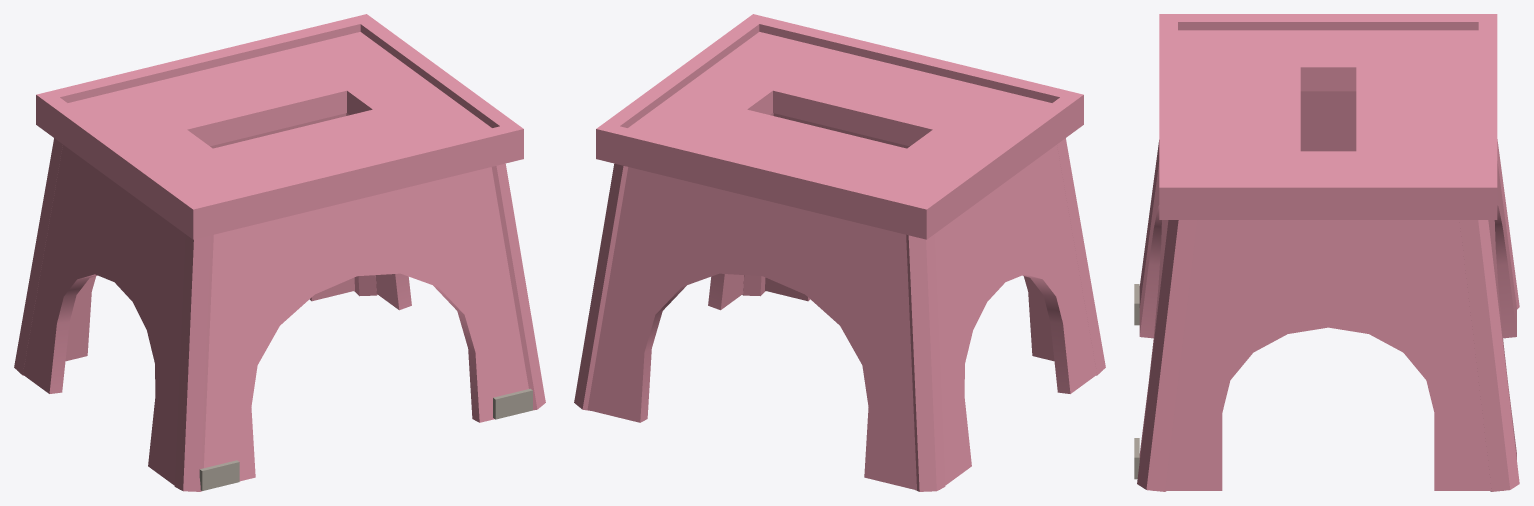
File: SC_Home_Bath_Stool_Pink.gltf
3 views of the same model, side by side, from view 1: azimuth 30°, elevation 25°; view 2: azimuth 150°, elevation 25°; view 3: azimuth 270°, elevation 25° (orthographic). The views are drawn at different scales.
Visible parts, largest first — view 1: SC_Home_Bath_Stool_Pink; view 2: SC_Home_Bath_Stool_Pink; view 3: SC_Home_Bath_Stool_Pink.
Boxes of the visible parts, bbox=[...] form: SC_Home_Bath_Stool_Pink: bbox=[14, 14, 545, 491]; SC_Home_Bath_Stool_Pink: bbox=[574, 14, 1105, 491]; SC_Home_Bath_Stool_Pink: bbox=[1134, 14, 1519, 491].
Bounding box in the file's own units: 0.3401 × 0.2491 × 0.2909.
Materials: 1 (1 with a texture image).
